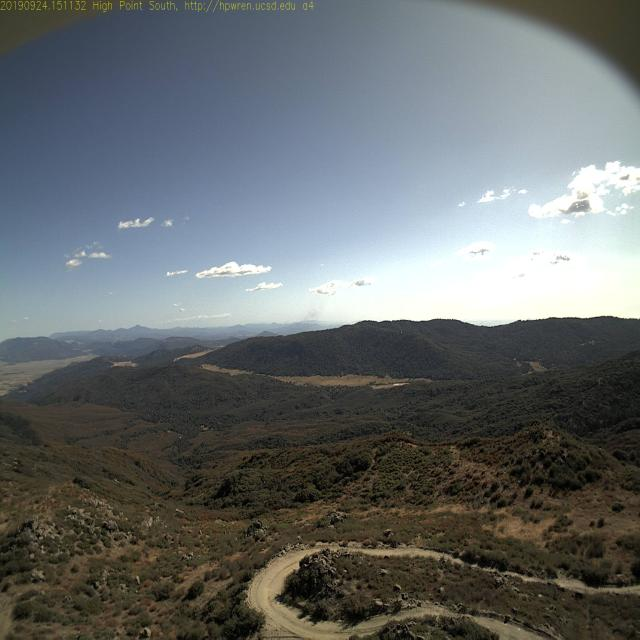smoke: (298, 305, 321, 324)
